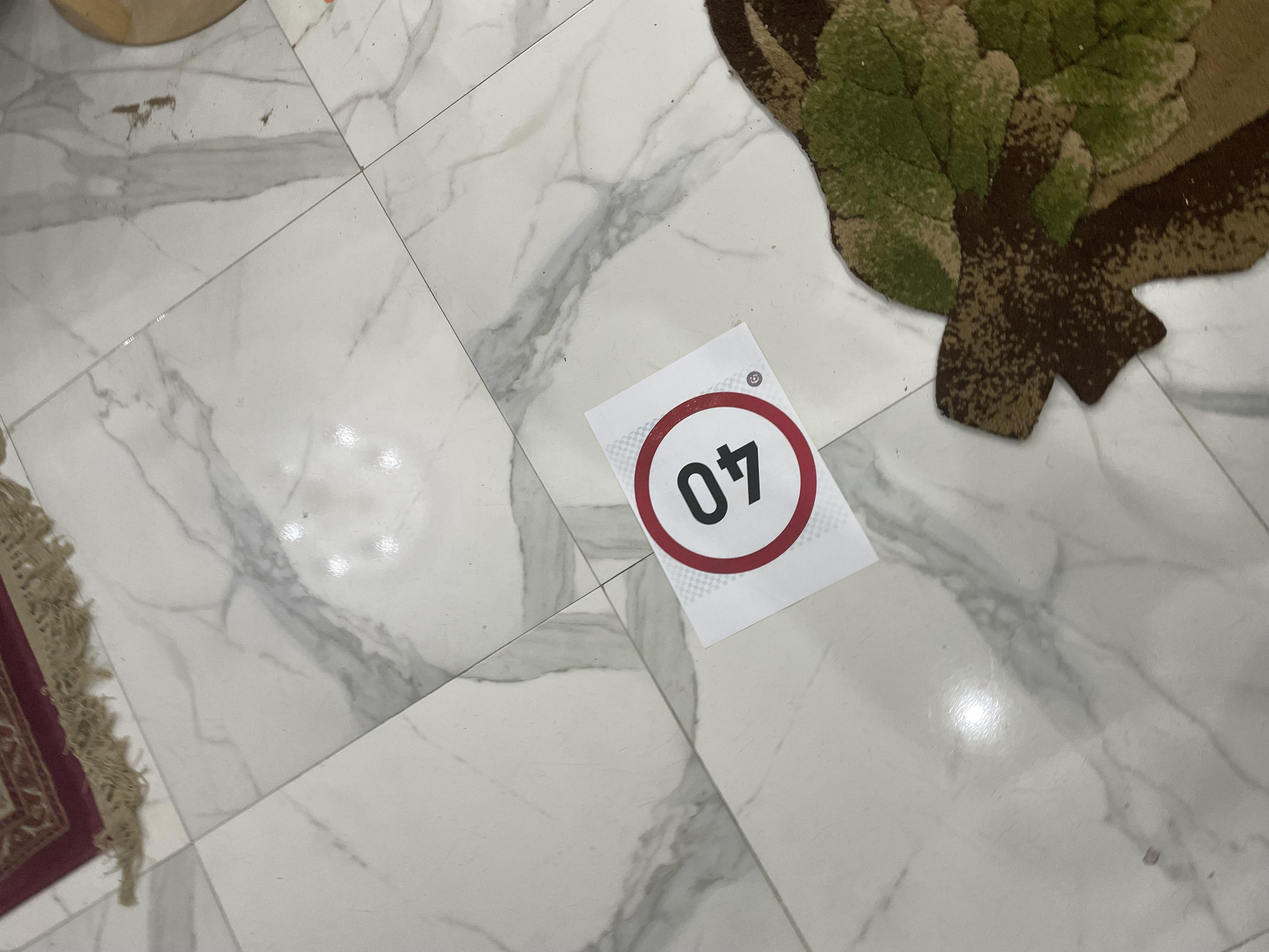40-Speed: (514, 337, 768, 479)
